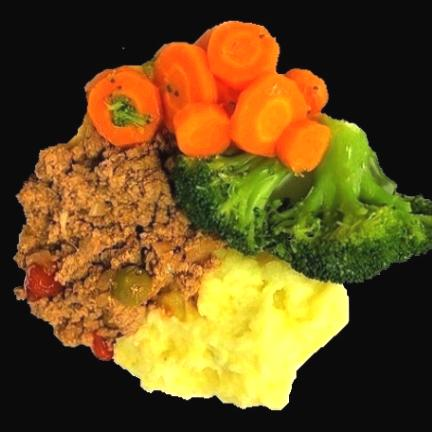broccoli: (170, 116, 432, 284)
carrot: (88, 23, 331, 173)
meat: (15, 119, 223, 360)
potato: (114, 250, 349, 409)
